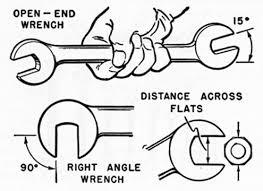wrench: (7, 21, 240, 87)
